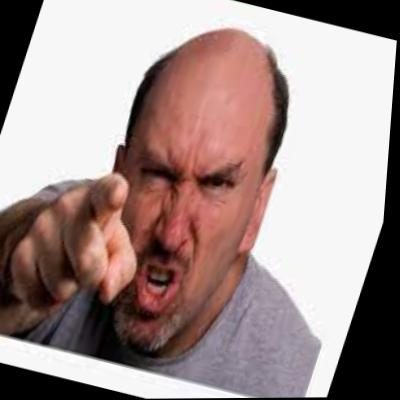angry: (57, 10, 326, 371)
